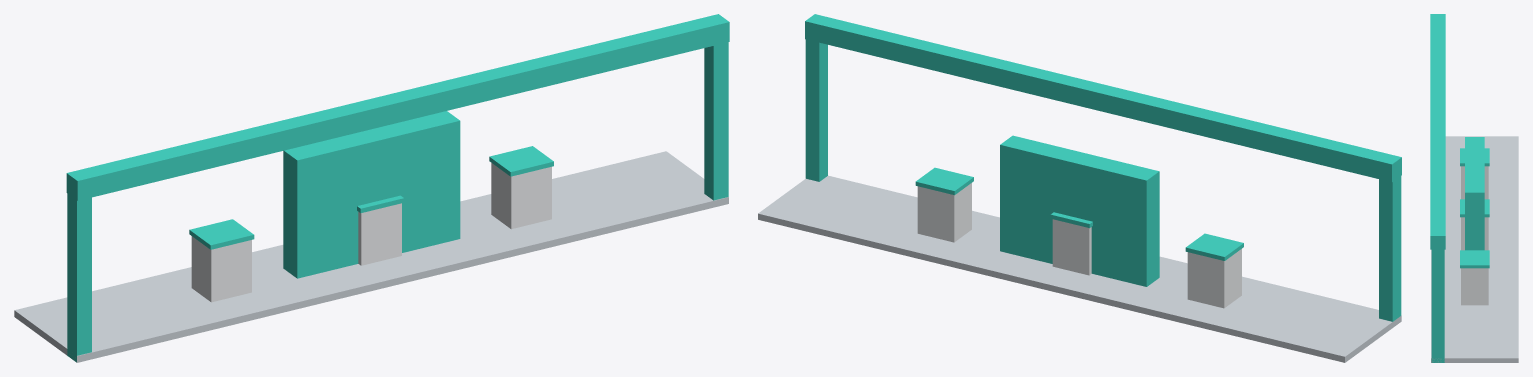
3 renders of one model, left to right at view 1: azimuth 30°, elevation 25°; view 2: azimuth 150°, elevation 25°; view 3: azimuth 270°, elevation 25°, orthographic. The views are drawn at different scales.
Parts seen in each view (by area): view 1: Exhibition Booth Concept; view 2: Exhibition Booth Concept; view 3: Exhibition Booth Concept.
Part boxes in pixels (bbox=[...]): Exhibition Booth Concept: bbox=[14, 14, 729, 362]; Exhibition Booth Concept: bbox=[758, 14, 1401, 362]; Exhibition Booth Concept: bbox=[1430, 14, 1518, 362].
Bounding box in the file's own units: 12 × 3.2 × 2.01.
